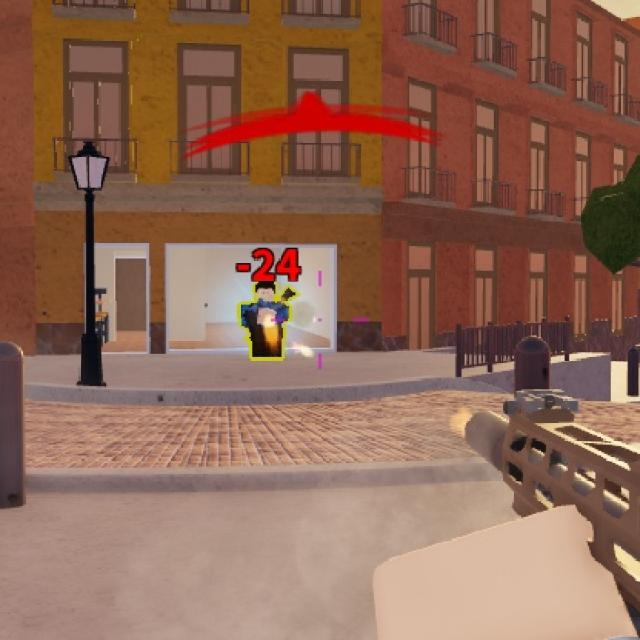player: (235, 278, 301, 362)
